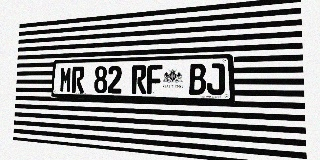2: (108, 66, 122, 93)
8: (94, 66, 108, 93)
B: (189, 64, 206, 95)
F: (147, 65, 162, 94)
J: (207, 63, 225, 95)
M: (59, 67, 72, 93)
R: (132, 65, 147, 94), (72, 66, 85, 93)
